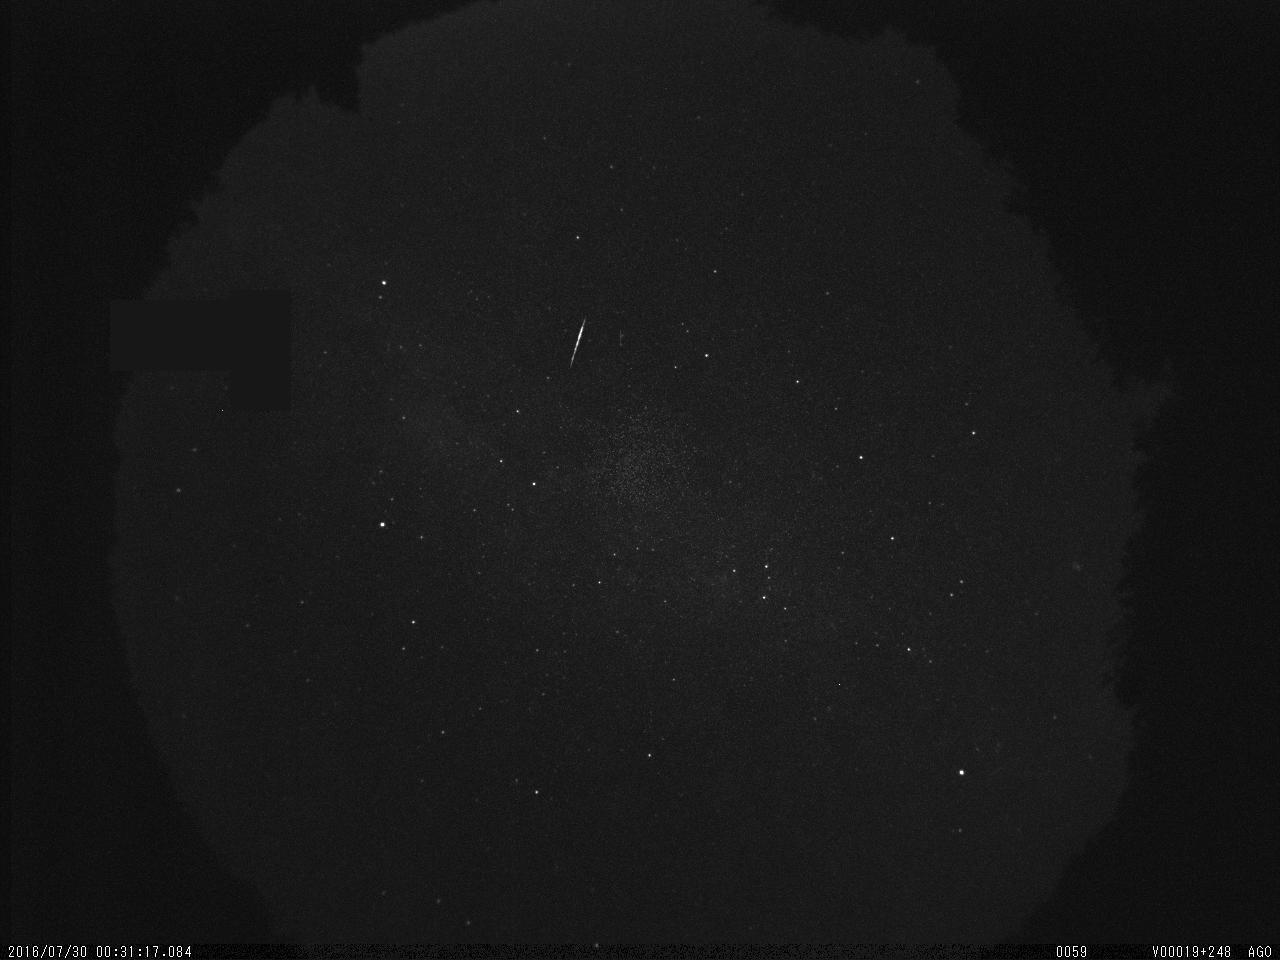Meteor: (567, 315, 587, 368)
